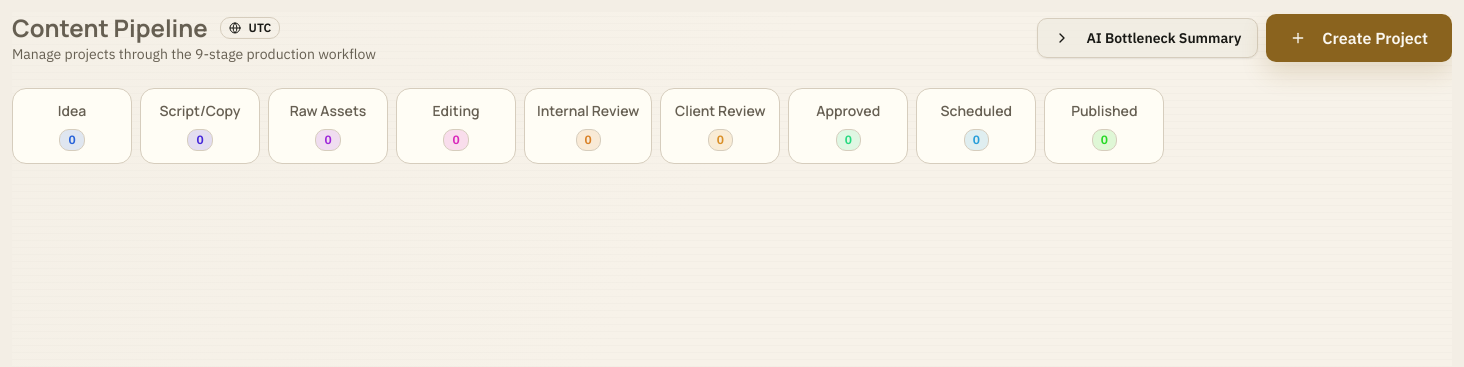
it: Shared AI workflow blocker surfaces › shows the blocker in PipelineTab
Click the button "AI Bottleneck Summary".
click(1148, 38)  # box [1037,18,1258,58]
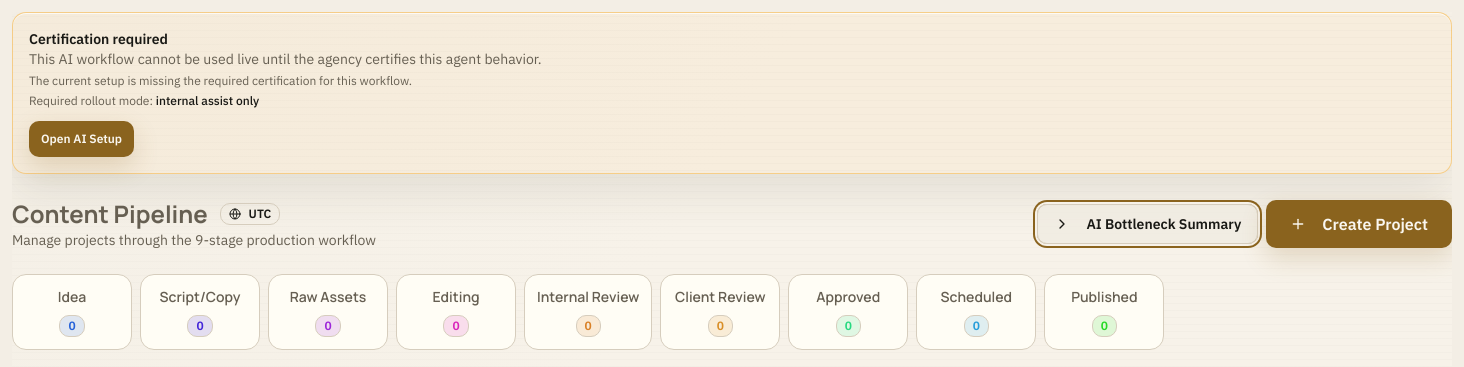
Now the text "Certification required" is shown, box [29,30,168,48]
Now the text "Required rollout mode:" is shown, box [29,93,153,108]
